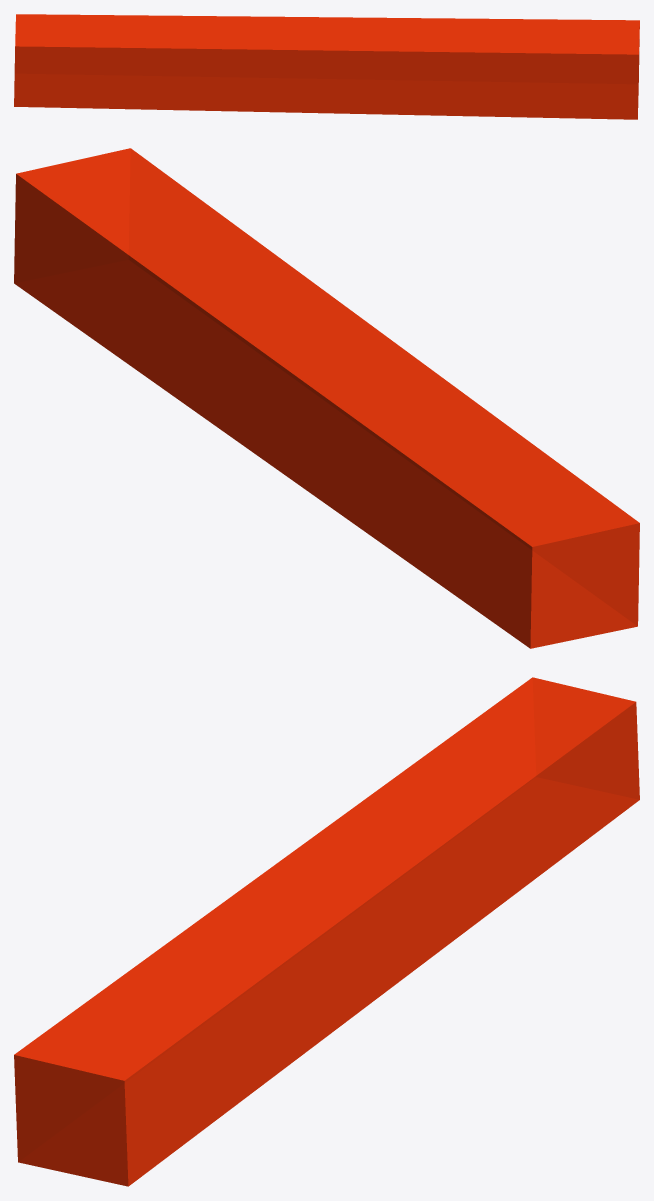
The model's file is Event_420107950_EBrechit_17.fbx.
3 renders of one model, top to bottom at view 1: azimuth 30°, elevation 25°; view 2: azimuth 150°, elevation 25°; view 3: azimuth 270°, elevation 25°, orthographic. The views are drawn at different scales.
Visible parts, largest first — view 1: Model; view 2: Model; view 3: Model.
Boxes of the visible parts, x1,y1,x2,y2 form: Model: (14,14,639,119); Model: (14,148,639,648); Model: (14,677,639,1186).
Bounding box in the file's own units: 0.4797 × 0.0661 × 0.3196.
